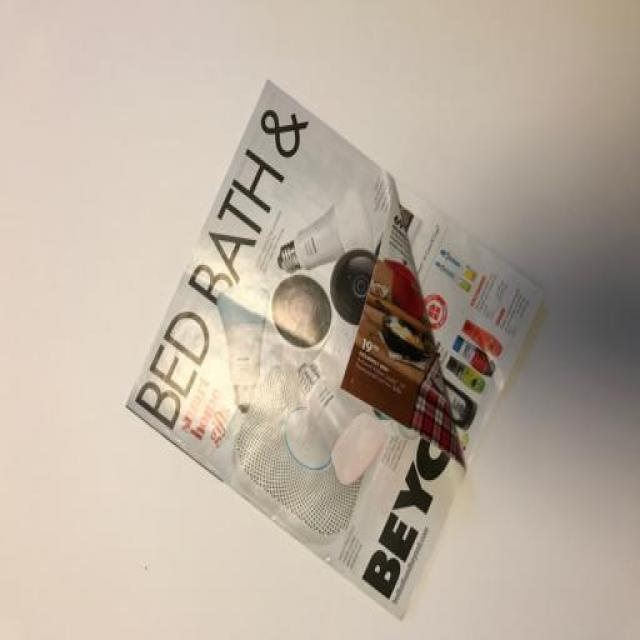paper: (119, 70, 566, 640)
